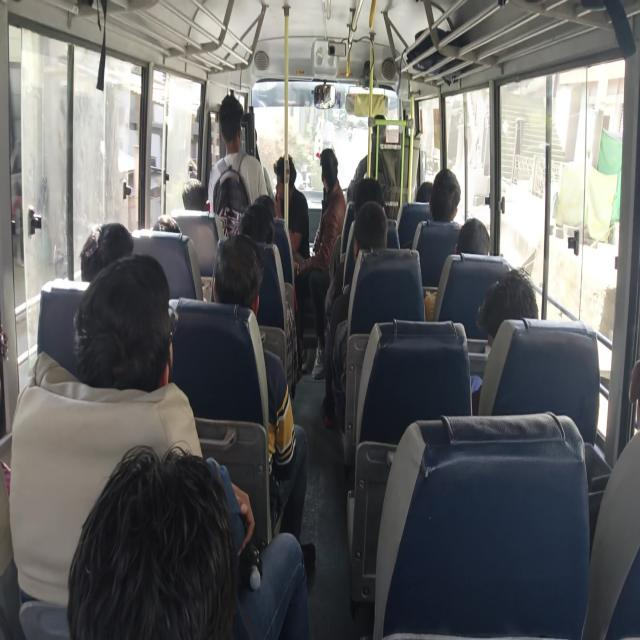person: (87, 466, 214, 640), (99, 258, 174, 381), (479, 264, 537, 354), (610, 355, 640, 474), (430, 163, 470, 226), (214, 231, 248, 298), (79, 214, 117, 271), (358, 205, 392, 268), (220, 90, 252, 149), (452, 216, 487, 269), (316, 138, 345, 196), (272, 136, 299, 193), (179, 169, 203, 223), (348, 174, 380, 213), (416, 175, 446, 214), (152, 202, 181, 238), (242, 200, 266, 238), (248, 188, 281, 203)
